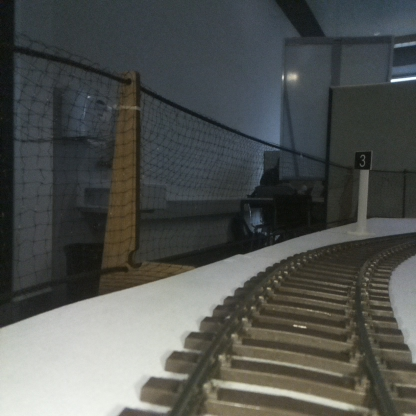black-info-3: (354, 151, 371, 232)
